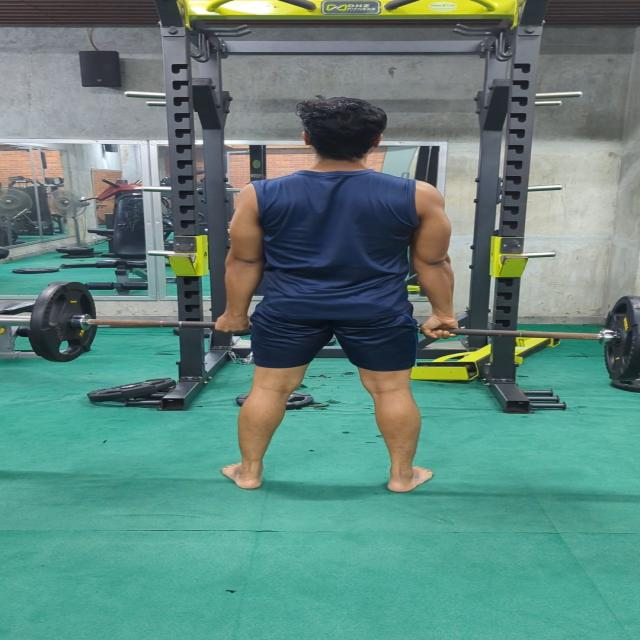Normal_Deadlifts: (215, 92, 466, 500)
